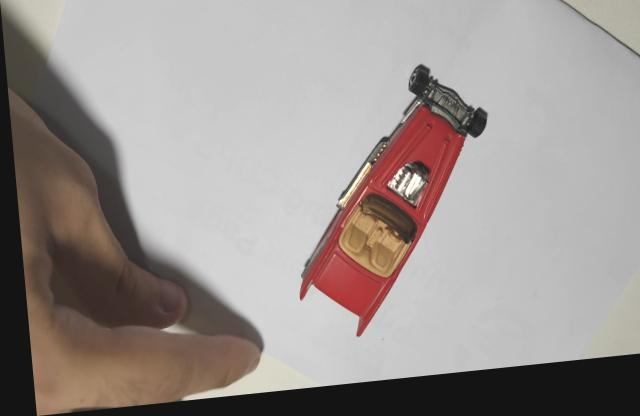03_V8: (294, 73, 485, 342)
